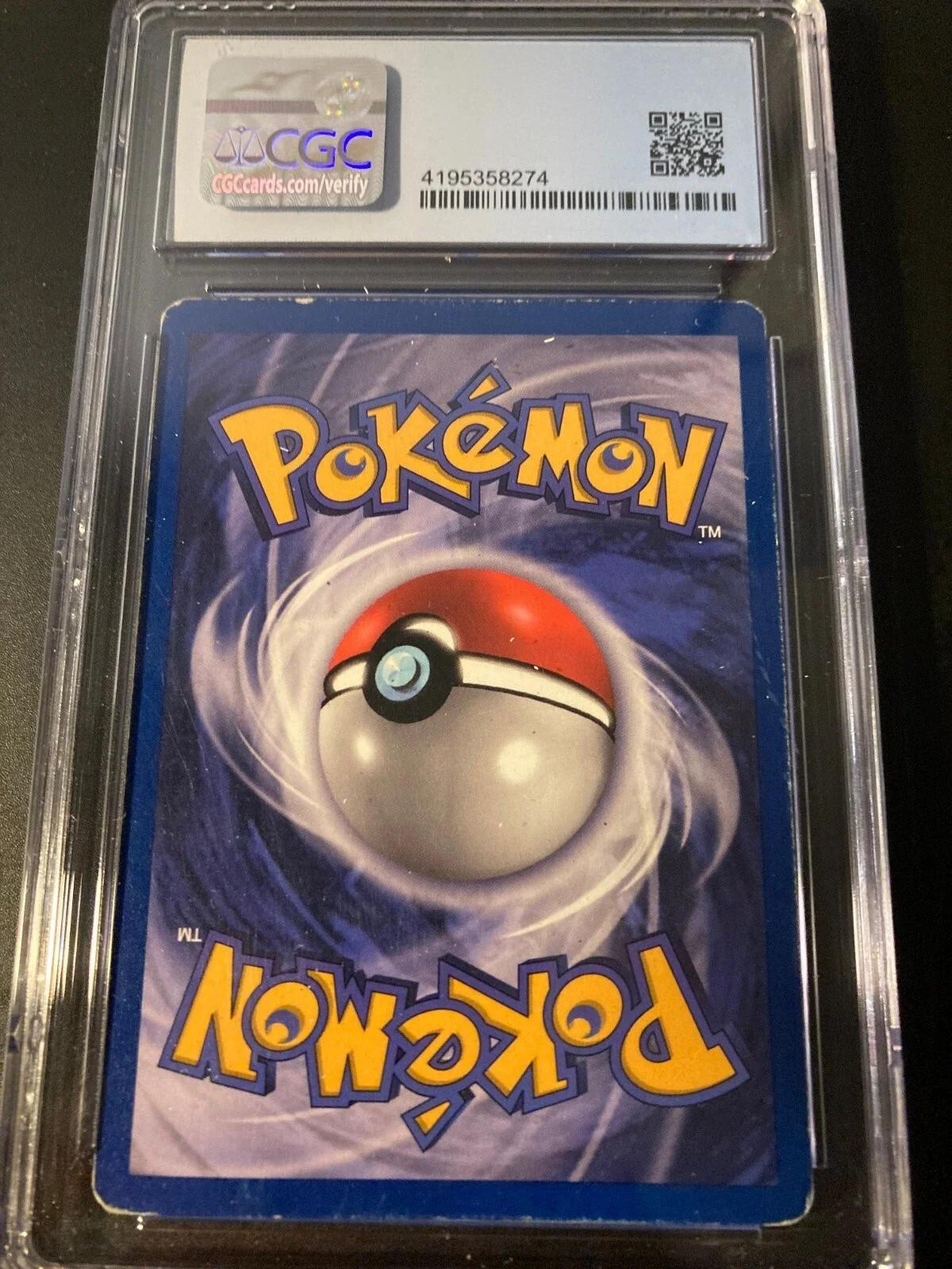card-2UtV: (91, 296, 814, 1227)
